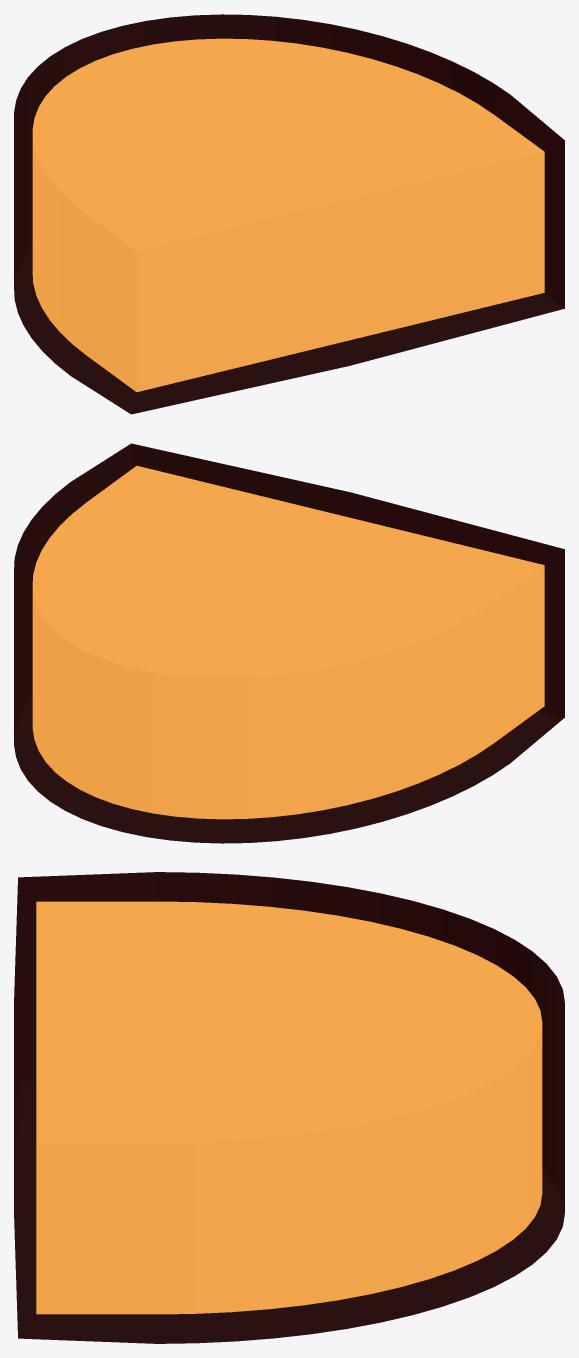
Rendered from AND.glb.
The picture shows the model from 3 angles, top to bottom: view 1: azimuth 30°, elevation 25°; view 2: azimuth 150°, elevation 25°; view 3: azimuth 270°, elevation 25°; orthographic projection. The views are drawn at different scales.
Visible parts, largest first — view 1: Plane; view 2: Plane; view 3: Plane.
Boxes of the visible parts, <box> form: Plane: <box>14,14,564,414</box>; Plane: <box>14,443,564,843</box>; Plane: <box>14,872,564,1343</box>.
Bounding box in the file's own units: 2.16 × 0.8171 × 1.93.
